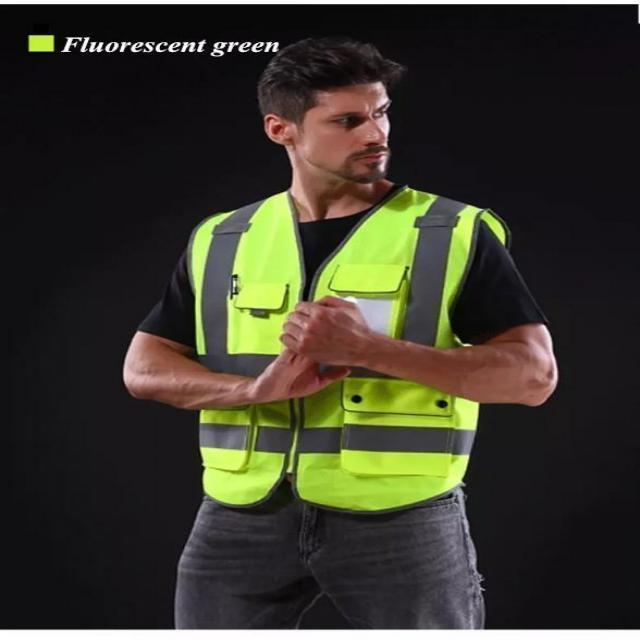no-helmet: (256, 39, 406, 139)
vest: (186, 185, 510, 518)
